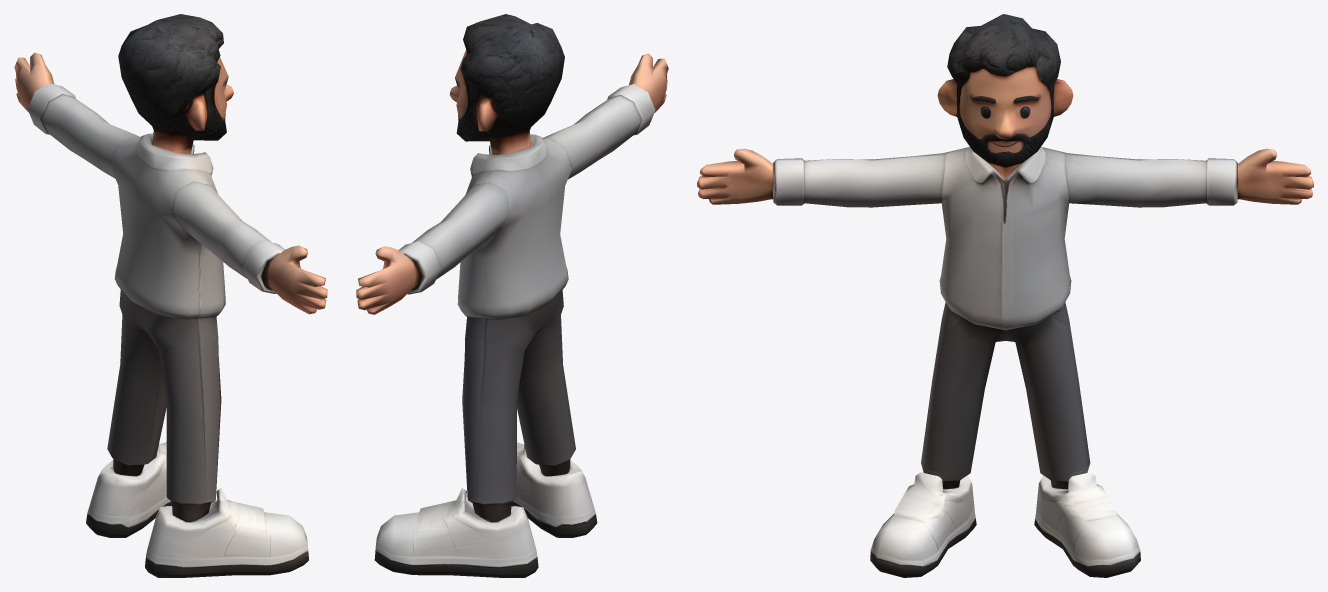
3 renders of one model, left to right at view 1: azimuth 30°, elevation 25°; view 2: azimuth 150°, elevation 25°; view 3: azimuth 270°, elevation 25°, orthographic.
Parts seen in each view (by area): view 1: tripo_node_b17d691c-7cff-4dd5-8d68-060ee443d545; view 2: tripo_node_b17d691c-7cff-4dd5-8d68-060ee443d545; view 3: tripo_node_b17d691c-7cff-4dd5-8d68-060ee443d545.
Part boxes in pixels (box(x1,y1,x2,y2)): tripo_node_b17d691c-7cff-4dd5-8d68-060ee443d545: box(14, 14, 327, 577); tripo_node_b17d691c-7cff-4dd5-8d68-060ee443d545: box(356, 14, 668, 577); tripo_node_b17d691c-7cff-4dd5-8d68-060ee443d545: box(697, 14, 1313, 577).
Bounding box in the file's own units: 0.2544 × 0.9321 × 0.9995.
Materials: 1 (1 with a texture image).
